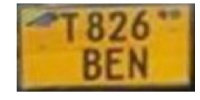T: (59, 11, 81, 44)
